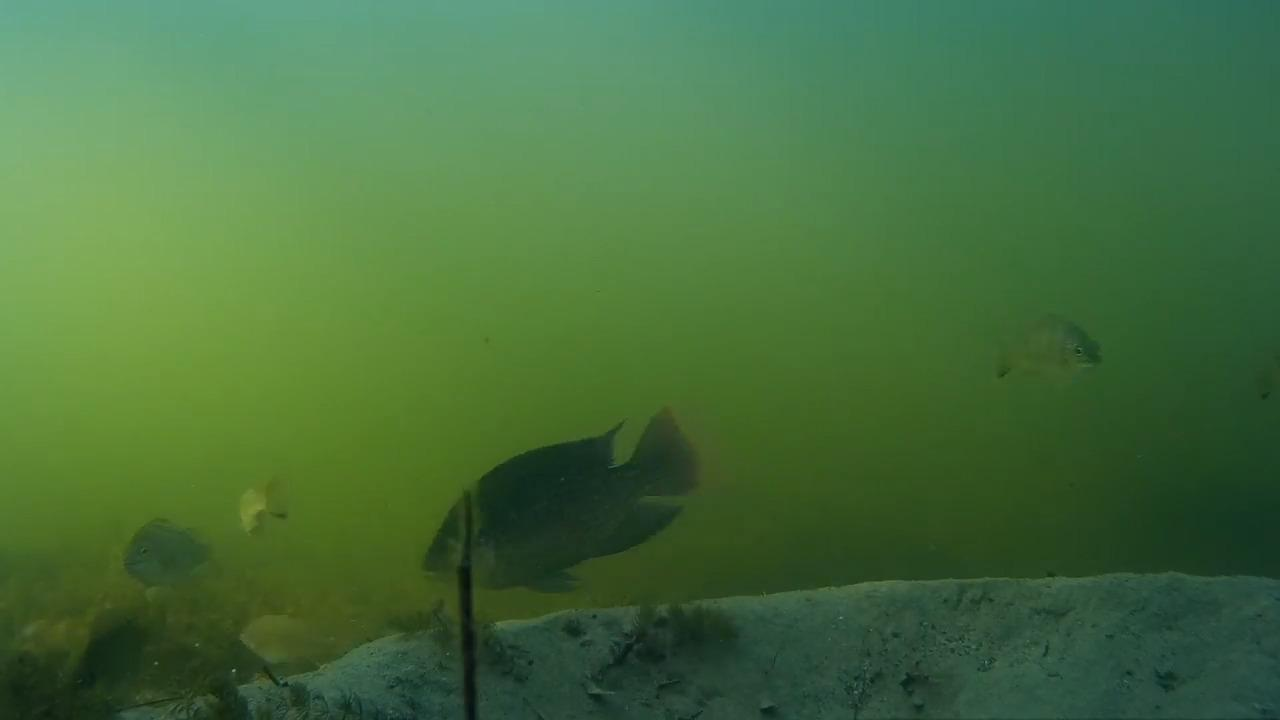Tilapia: (426, 406, 721, 601), (61, 598, 178, 710), (101, 498, 212, 588), (986, 311, 1102, 389), (248, 608, 363, 672), (215, 476, 296, 540)
